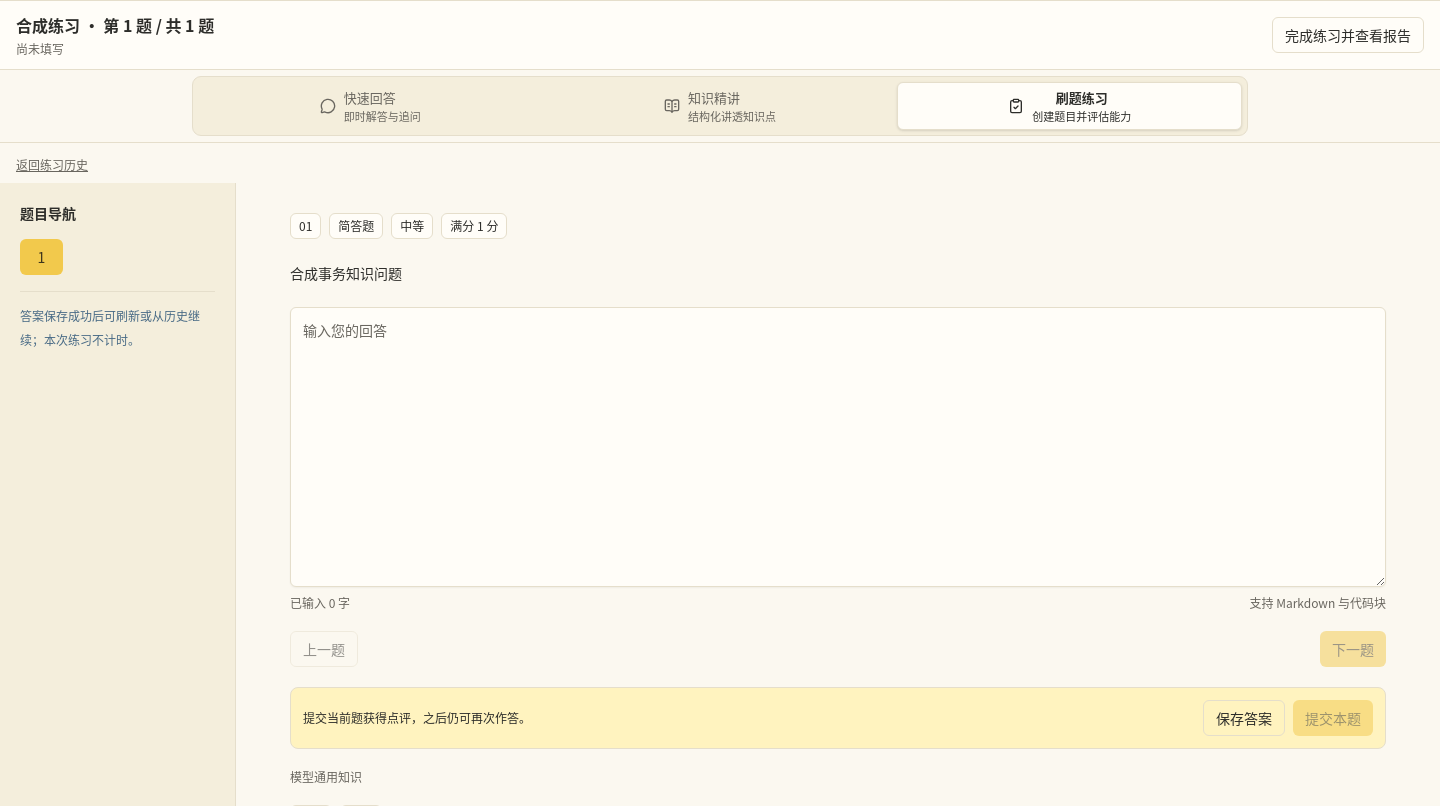
Scenario: 练习保存与提交边界 › 未确认保存不显示已保存，提交等待保存并使用真实新版本
This screenshot has width=1440, height=806.
Step 1. Type "合成回答" into the text box named "简答答案" → [838, 447], box [290,307,1386,587]
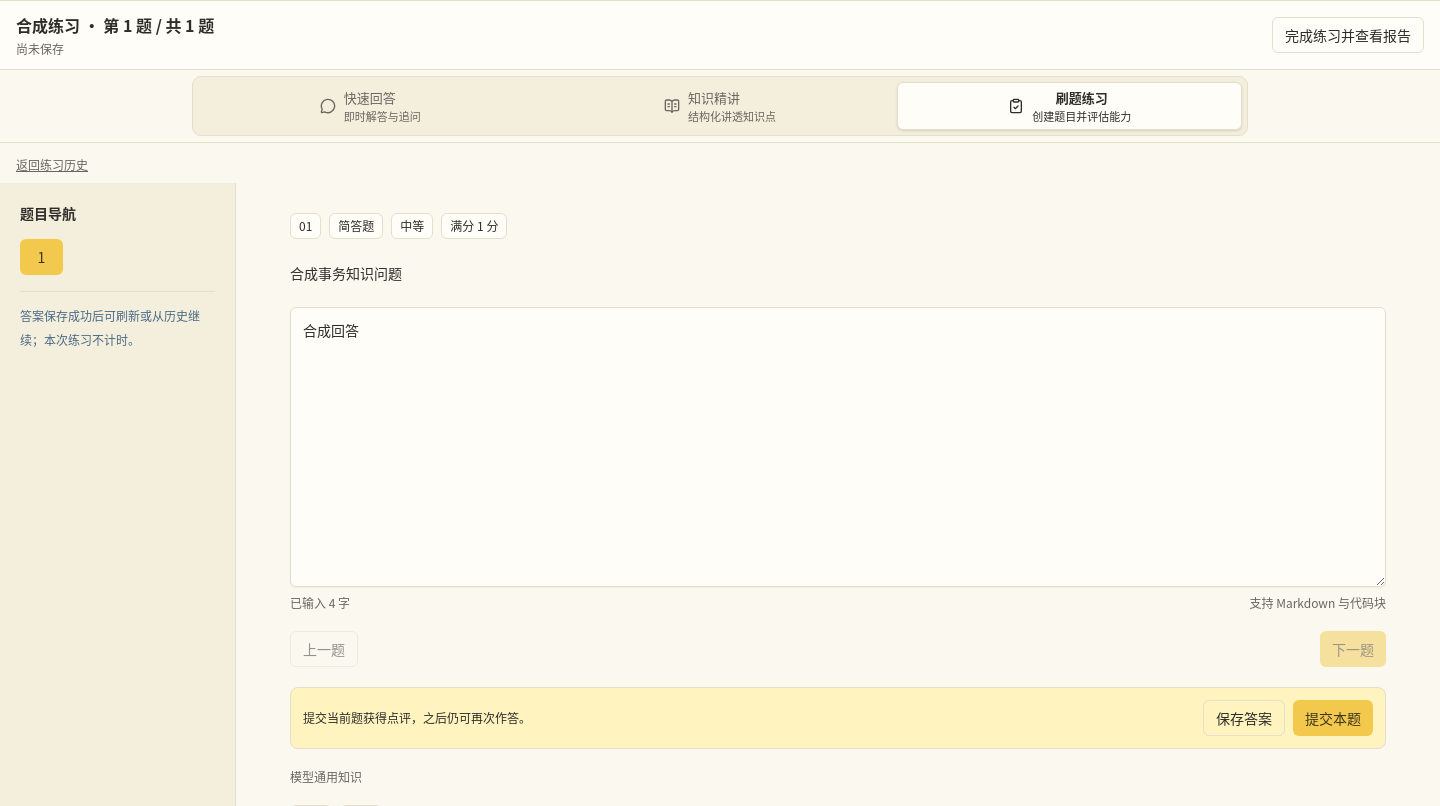
expect the message named "答案保存状态" reads "尚未保存": met, box [16,40,64,57]
Step 2. Click the button "提交本题" → [1333, 718], box [1293,700,1373,736]
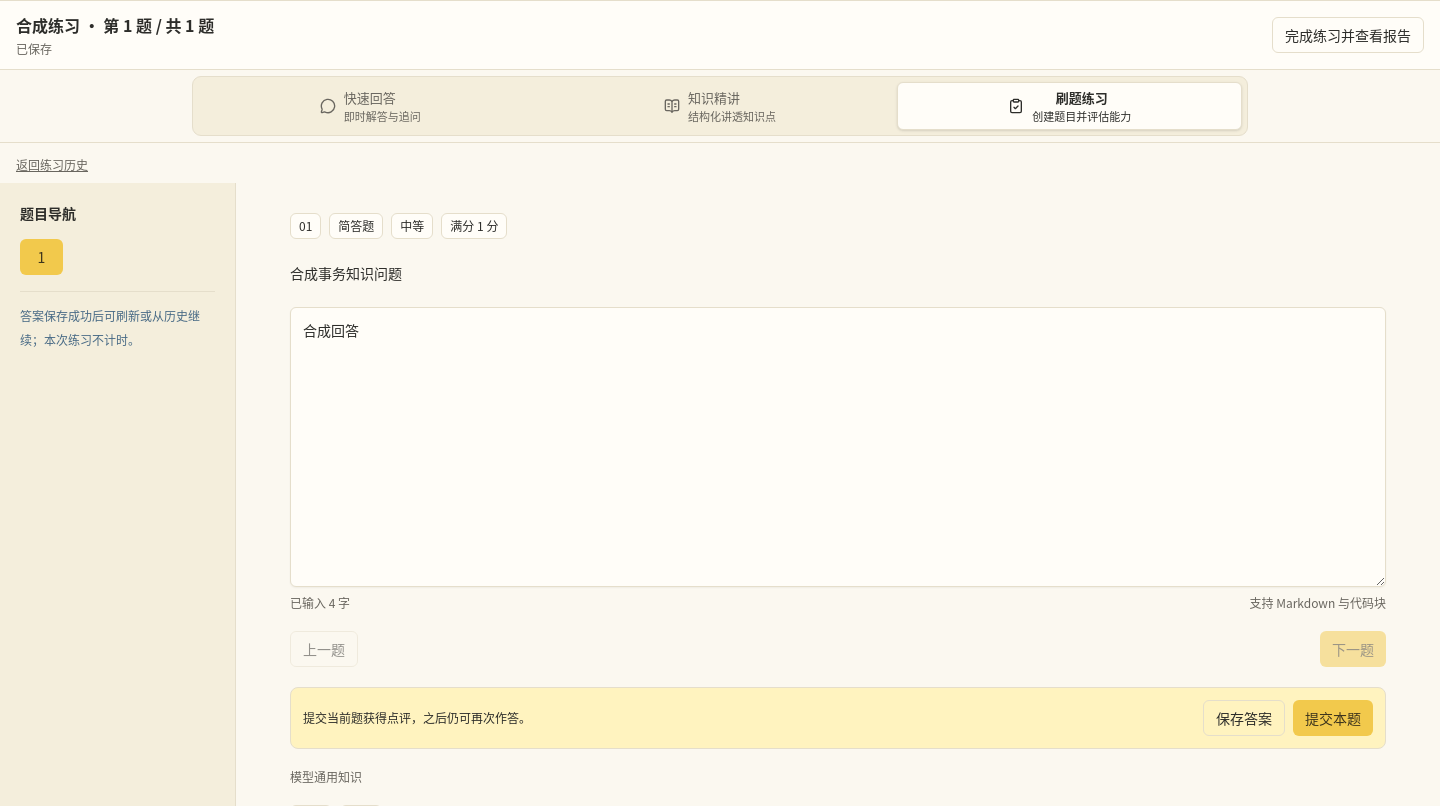
expect the message named "答案保存状态" reads "已保存": met, box [16,40,52,57]
